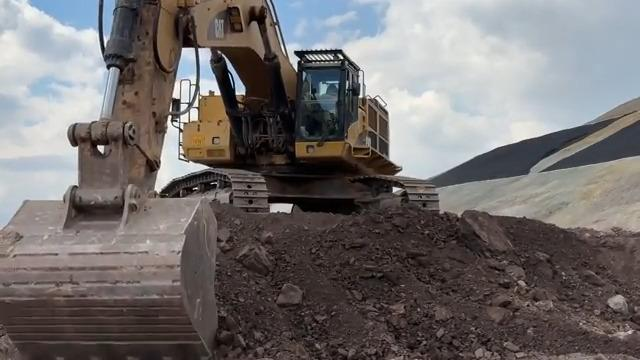excavator: (5, 3, 392, 310)
